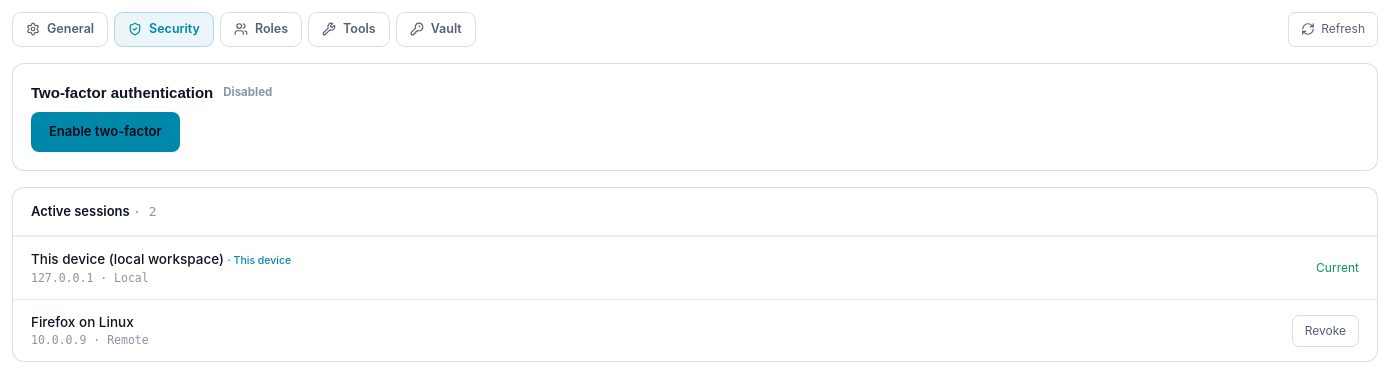
SettingsPanel — section switch + panels › section switch: General shows theme controls; Roles shows the matrix
The width and height of the screenshot is (1390, 379).
Expected: the text "Two-factor authentication" is shown, [31,82,213,104]
Click the button "General".
click(60, 29)  # box [12,12,108,47]
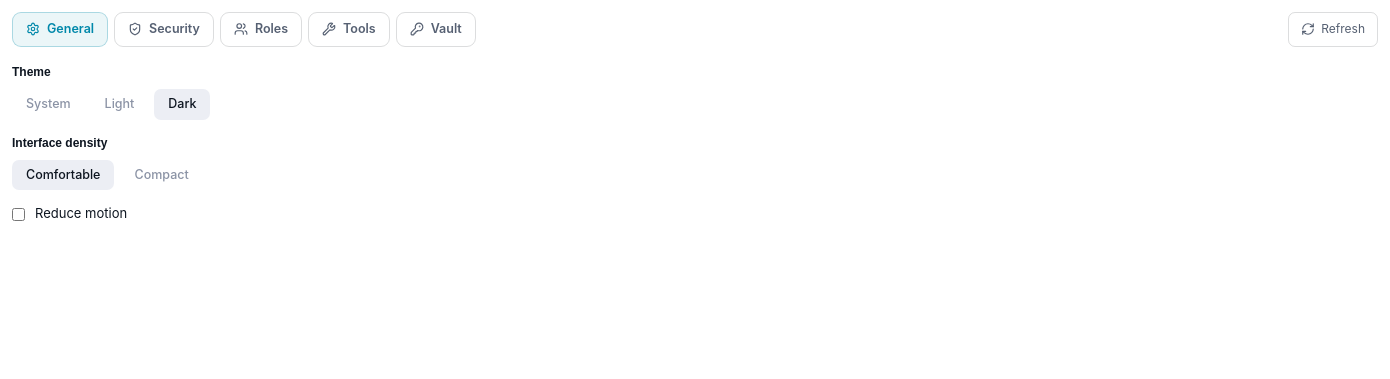
Expected: the text "Theme" is shown, [12,65,51,79]
Expected: the text "Interface density" is shown, [12,136,107,150]
Click the button "Roles".
click(261, 29)  # box [220,12,302,47]
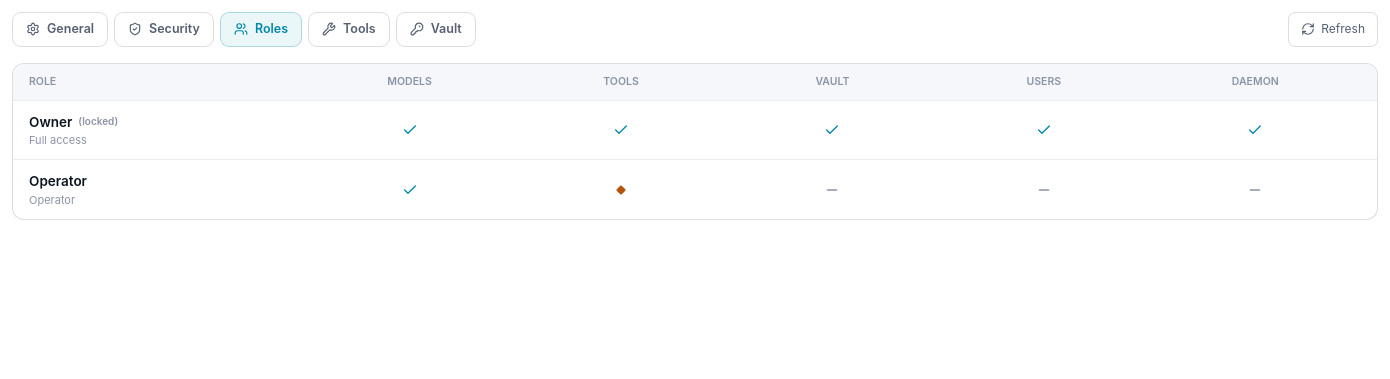
Expected: the text "Owner" is shown, [29,114,72,130]
Expected: the button named "operator-vault-deny" is shown, [816,174,848,206]
